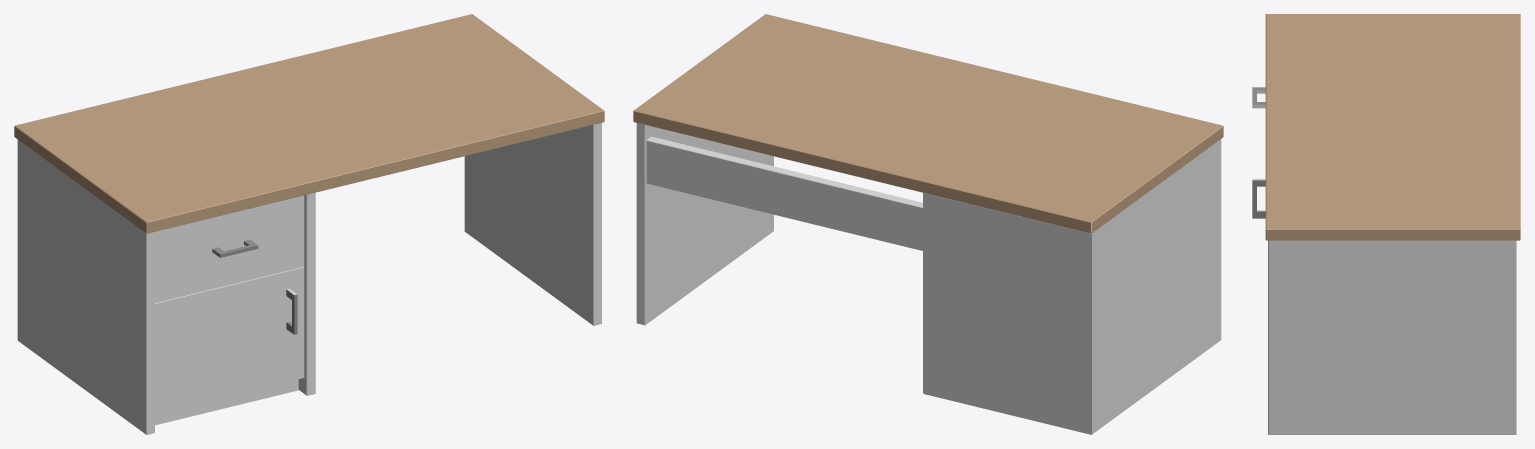
File: desk.glb
The picture shows the model from 3 angles, left to right: view 1: azimuth 30°, elevation 25°; view 2: azimuth 150°, elevation 25°; view 3: azimuth 270°, elevation 25°; orthographic projection. The views are drawn at different scales.
Visible parts, largest first — view 1: Desk1_Polygon; view 2: Desk1_Polygon; view 3: Desk1_Polygon.
Part boxes in pixels (x1,y1,x2,y2): Desk1_Polygon: (14,14,604,434); Desk1_Polygon: (633,14,1223,434); Desk1_Polygon: (1252,14,1520,434).
Size of the model in its own units: 5.62 by 2.51 by 2.96.
